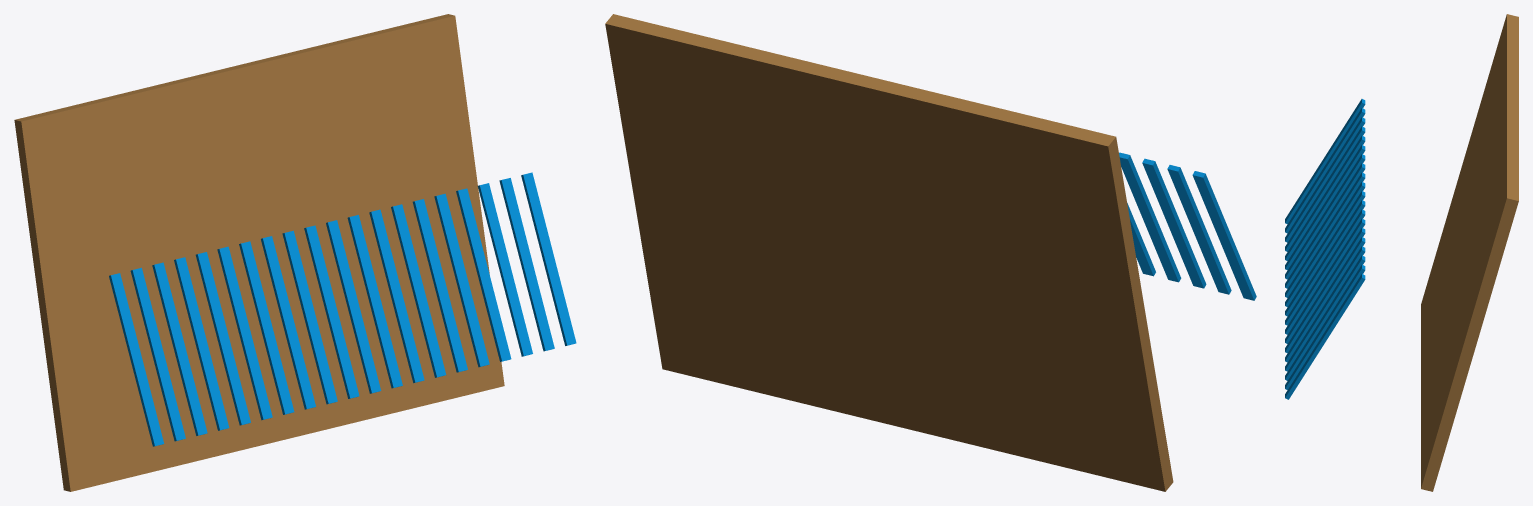
File: downloaded_model.glb
3 views of the same model, side by side, from view 1: azimuth 30°, elevation 25°; view 2: azimuth 150°, elevation 25°; view 3: azimuth 270°, elevation 25° (orthographic). The views are drawn at different scales.
Parts seen in each view (by area): view 1: world; view 2: world; view 3: world.
Part boxes in pixels (box(x1,y1,x2,y2)): world: box(14, 14, 576, 491); world: box(605, 14, 1256, 491); world: box(1285, 14, 1518, 491).
Bounding box in the file's own units: 10.5 × 7.81 × 5.63.
